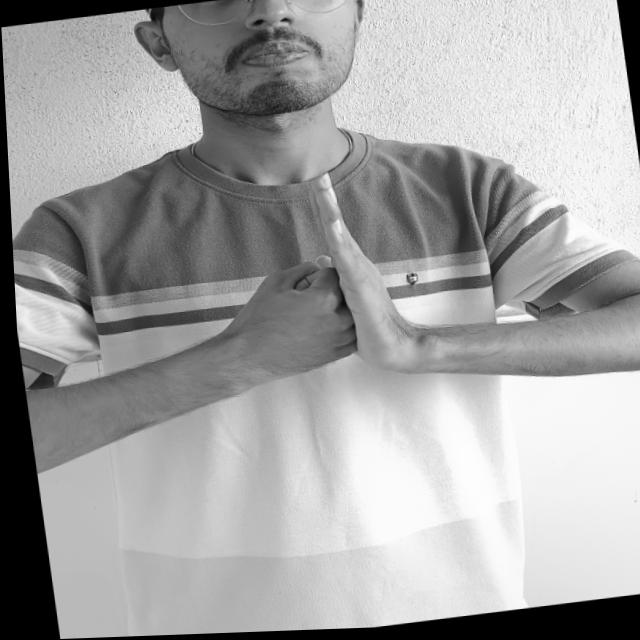Well Done: (142, 138, 515, 453)
